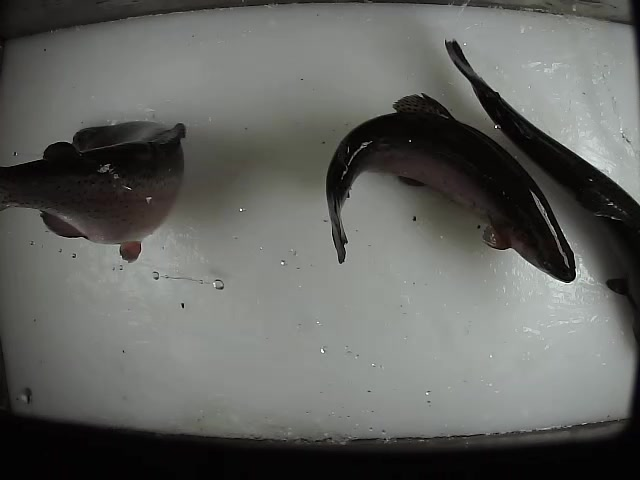fish: (443, 33, 640, 339), (325, 89, 578, 284), (1, 119, 190, 265)
